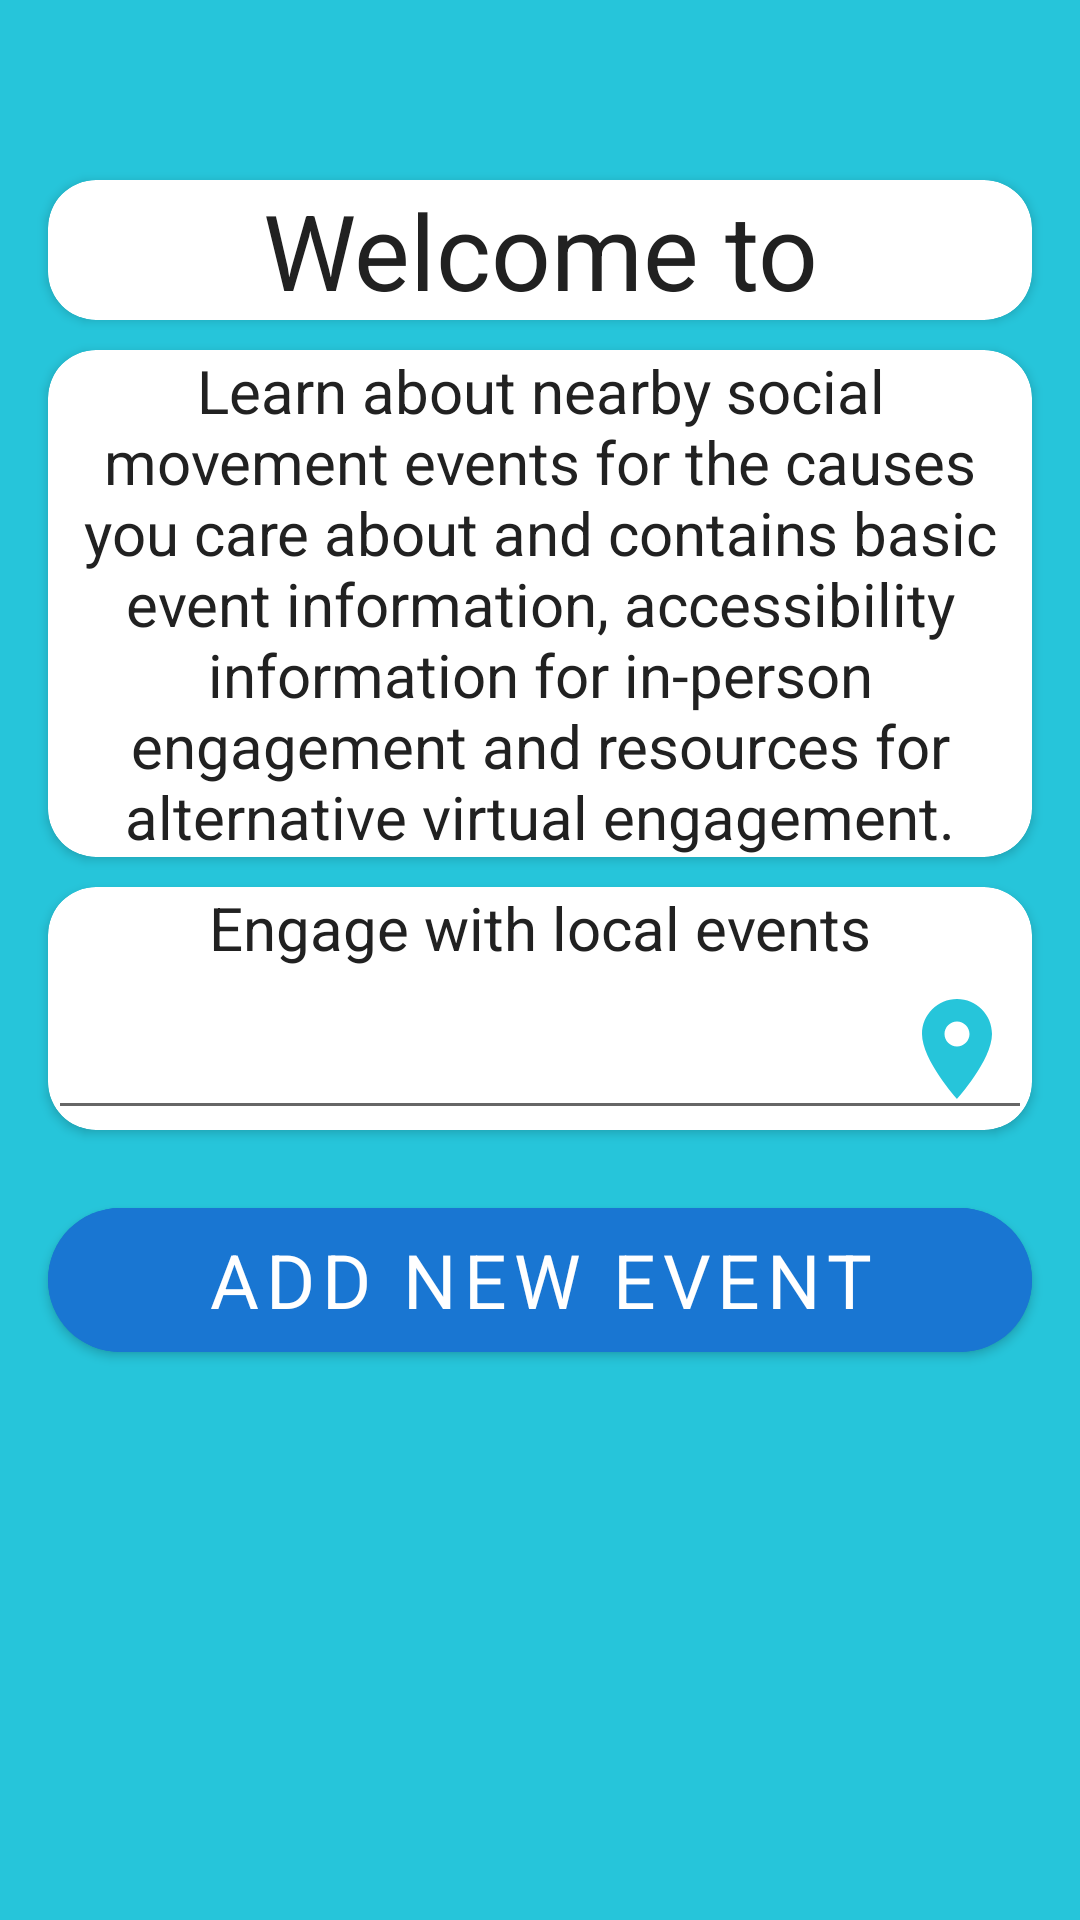

Screen size 1080*1920. Icon name, then its box in pixels as [x1,y1,x2,y2]:
location on: [922,999,992,1099]
